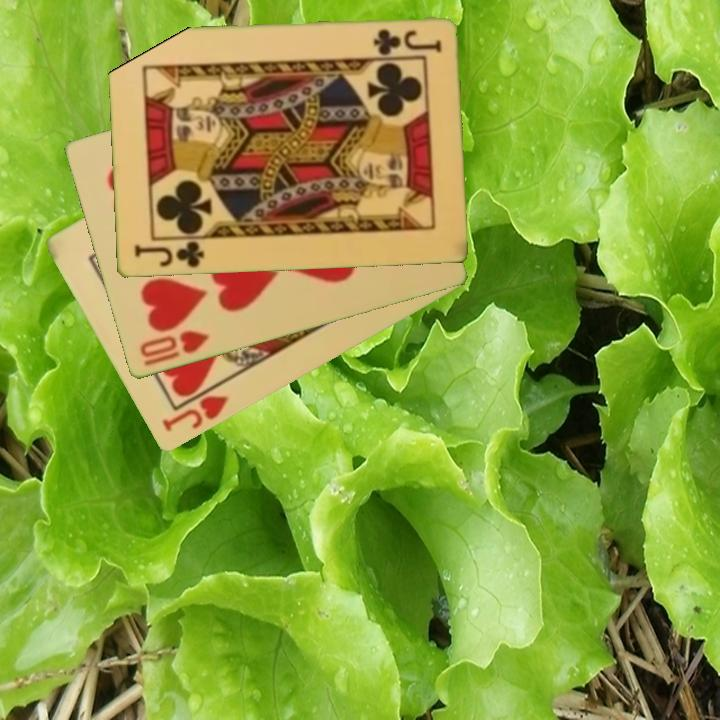10h: (136, 327, 212, 370)
Jc: (131, 236, 209, 271), (370, 26, 444, 57)
Jh: (158, 392, 232, 436)
